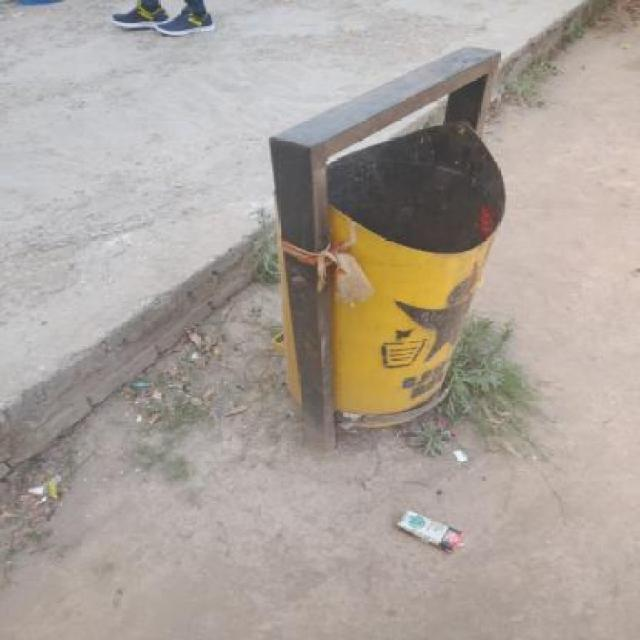garbage: (346, 471, 494, 586), (423, 425, 500, 488), (32, 468, 94, 520)
